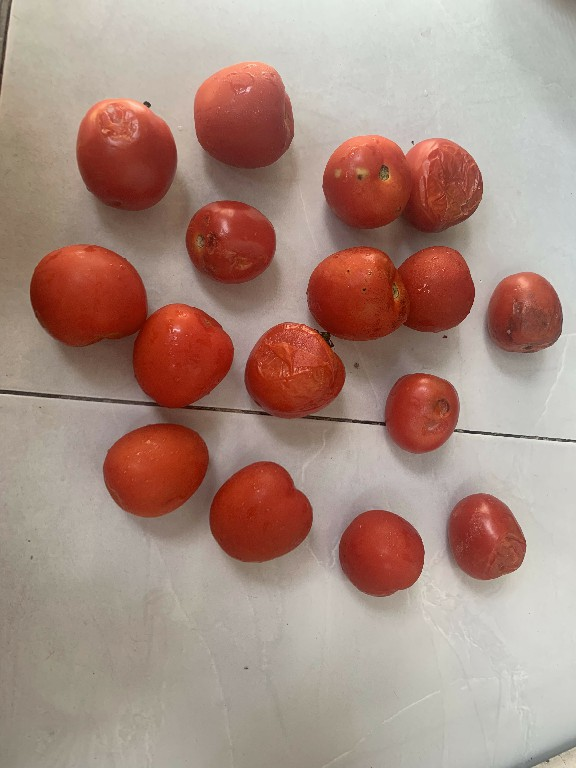NG: (75, 83, 183, 210), (243, 317, 349, 429), (307, 241, 407, 352), (321, 125, 414, 227), (449, 477, 537, 582), (187, 194, 282, 291), (402, 125, 483, 231), (486, 262, 568, 363), (378, 371, 466, 461)
OK: (20, 234, 150, 346), (204, 454, 322, 575), (184, 57, 298, 174), (130, 300, 241, 415), (97, 424, 212, 519), (334, 505, 430, 603), (390, 240, 478, 337)
